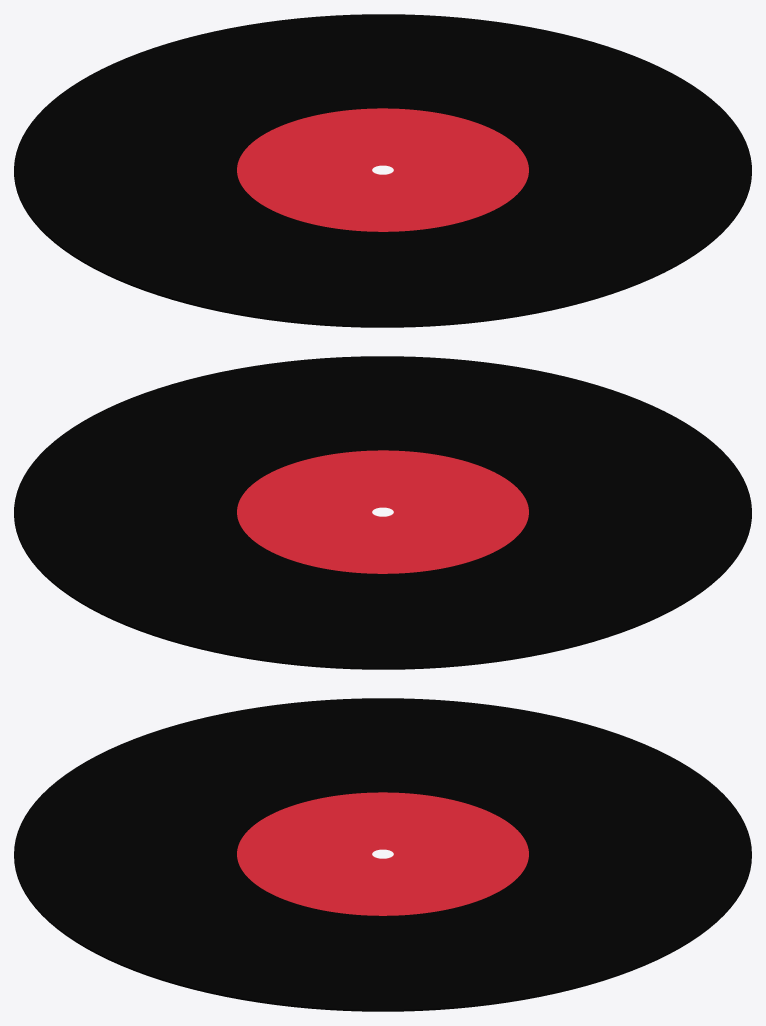
The model's file is placeholder_record.glb.
3 renders of one model, top to bottom at view 1: azimuth 30°, elevation 25°; view 2: azimuth 150°, elevation 25°; view 3: azimuth 270°, elevation 25°, orthographic.
Visible parts, largest first — view 1: Cylinder; view 2: Cylinder; view 3: Cylinder.
Part boxes in pixels (<box>): Cylinder: <box>14,14,751,327</box>; Cylinder: <box>14,356,751,669</box>; Cylinder: <box>14,698,751,1011</box>.
Size of the model in its own units: 2 by 0.005 by 2.
